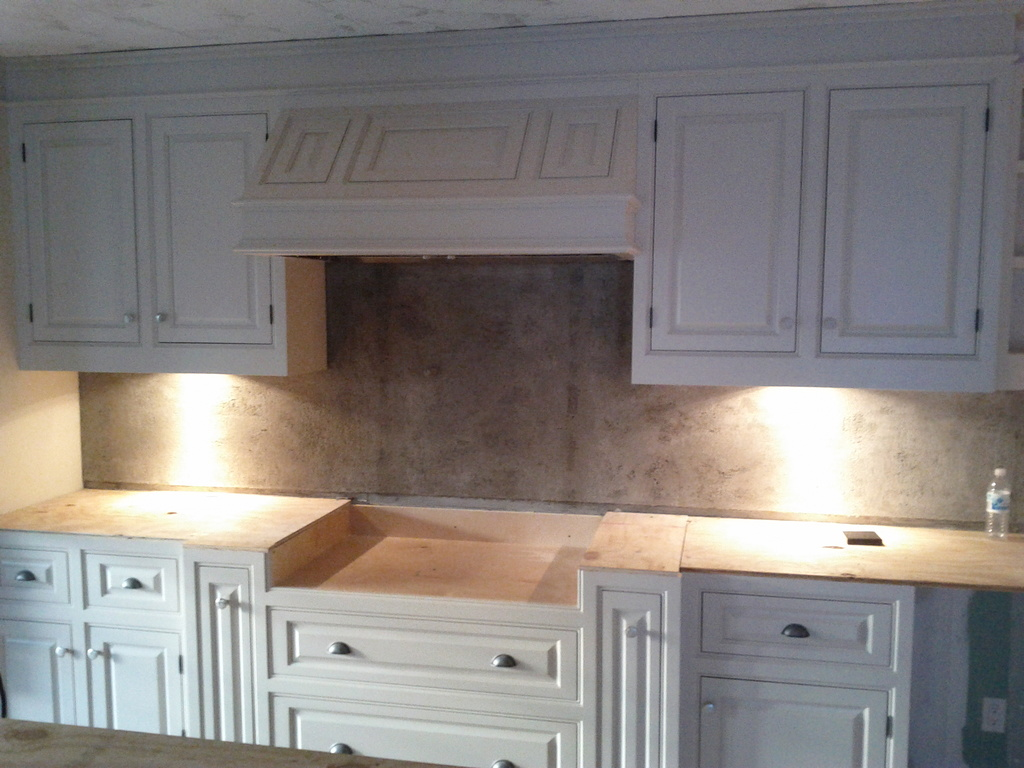cabinet door: (650, 102, 803, 359), (829, 101, 982, 358), (145, 125, 275, 340), (18, 127, 140, 346), (283, 621, 575, 698), (274, 705, 571, 768), (701, 681, 886, 768), (702, 595, 892, 666), (194, 559, 266, 735), (598, 593, 668, 768), (92, 645, 174, 729), (78, 556, 179, 621), (4, 631, 74, 721), (2, 550, 74, 609)
handle: (780, 617, 811, 647), (331, 740, 358, 764), (114, 574, 150, 591), (491, 651, 518, 672), (15, 566, 41, 586), (330, 639, 353, 659), (86, 645, 103, 663), (54, 639, 70, 658), (497, 754, 516, 768)
